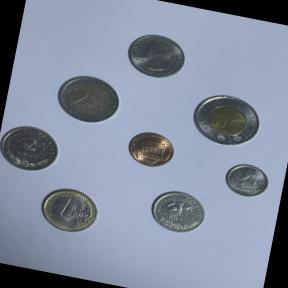coin: (186, 86, 266, 154), (50, 67, 128, 132), (33, 180, 106, 241), (119, 26, 192, 87), (0, 118, 65, 179), (121, 126, 179, 174), (219, 156, 273, 203)
